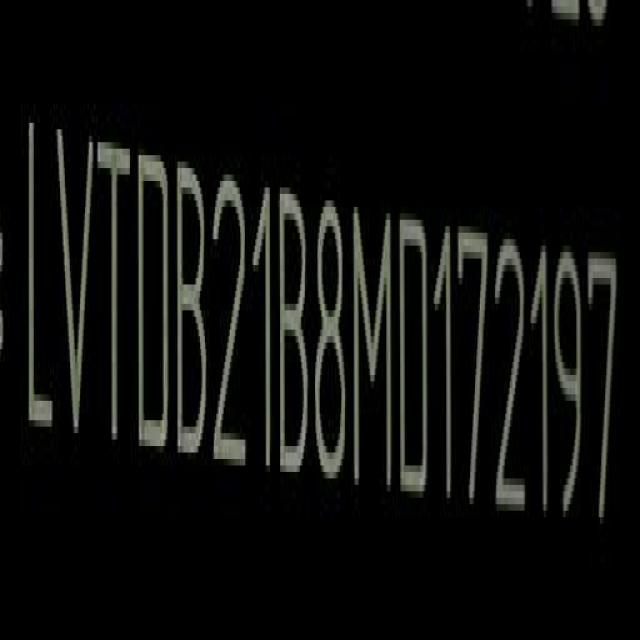1: (434, 221, 454, 508), (529, 238, 549, 521), (256, 178, 274, 475)
2: (214, 175, 249, 472), (495, 235, 529, 521)
7: (456, 223, 488, 513), (594, 248, 622, 531)
8: (314, 195, 347, 488)
9: (552, 245, 582, 524)
B: (179, 160, 211, 466), (278, 183, 310, 477)
D: (135, 144, 172, 462), (398, 209, 431, 499)
L: (20, 107, 53, 450)
M: (352, 198, 392, 493)
T: (100, 130, 131, 456)
V: (54, 121, 96, 453)
